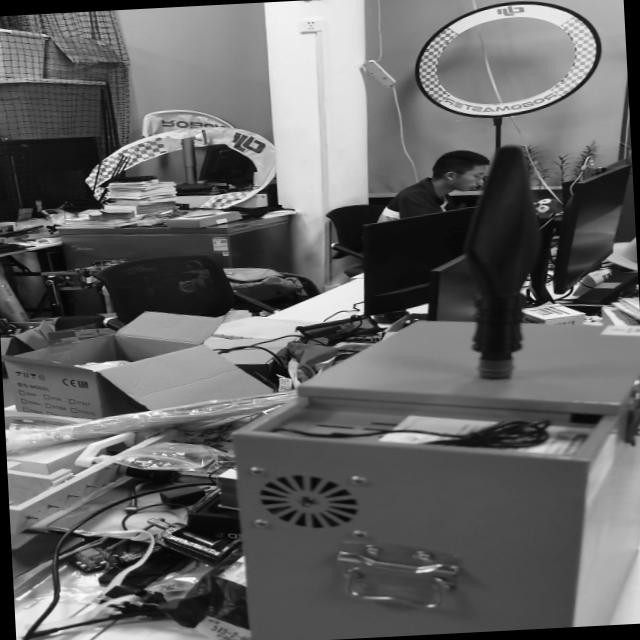base: (474, 356, 516, 382)
